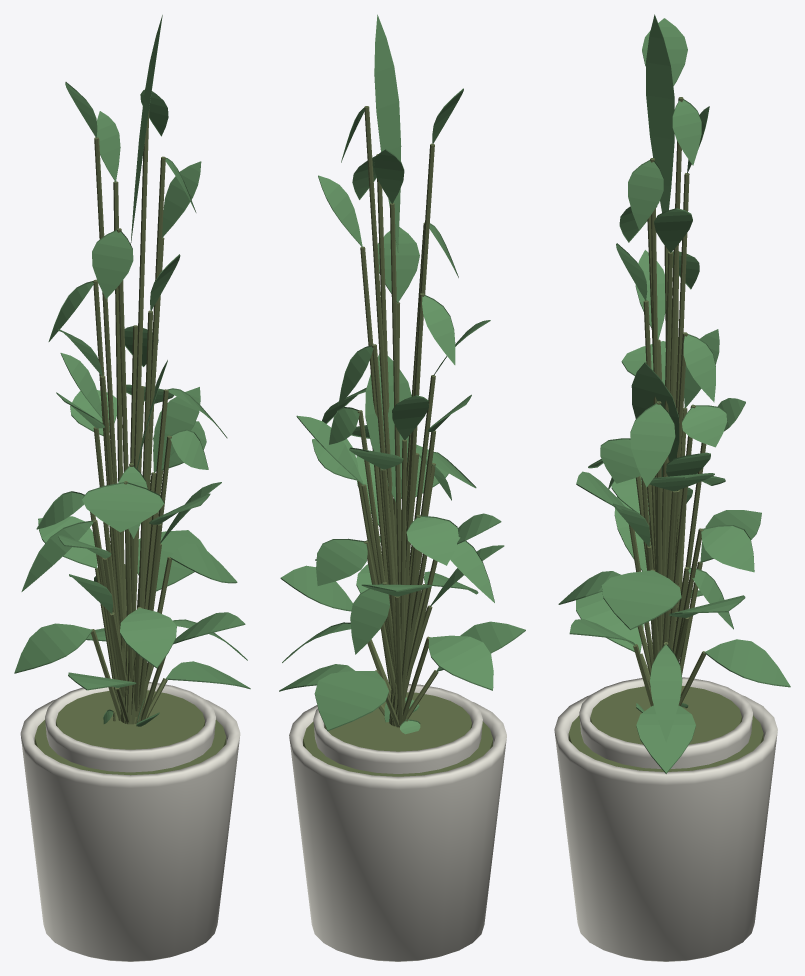
Rendered from plants_v06c.glb.
3 views of the same model, side by side, from view 1: azimuth 30°, elevation 25°; view 2: azimuth 150°, elevation 25°; view 3: azimuth 270°, elevation 25° (orthographic). The views are drawn at different scales.
Visible parts, largest first — view 1: VIS_PlantSofa, VIS_PlantWindow; view 2: VIS_PlantSofa, VIS_PlantWindow; view 3: VIS_PlantSofa, VIS_PlantWindow.
Boxes of the visible parts, x1,y1,x2,y2 form: VIS_PlantSofa: (14, 360, 250, 961); VIS_PlantWindow: (21, 15, 247, 772); VIS_PlantSofa: (279, 354, 525, 961); VIS_PlantWindow: (282, 14, 504, 773); VIS_PlantSofa: (554, 341, 790, 961); VIS_PlantWindow: (579, 14, 752, 768).
Size of the model in its own units: 0.3186 by 1.24 by 0.2839.
